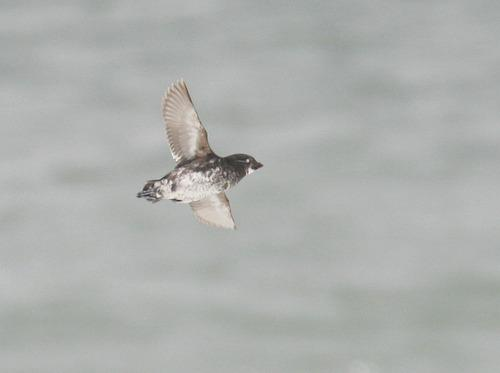006.Least_Auklet: (137, 80, 264, 232)
